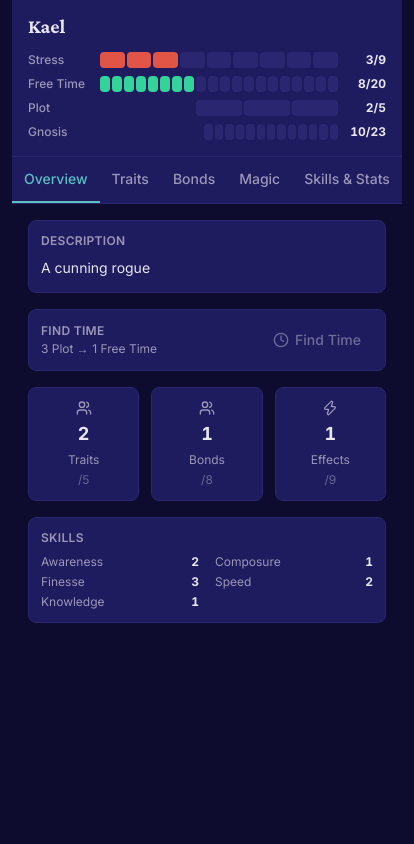
character sheet — tab switching › switching to Bonds tab reveals bonds content in tab panel
Expected: the element named "Stress: 3 of 9" is shown, [28,52,386,68]
Click the tab "Bonds" at [194, 180], box [161,157,227,203]
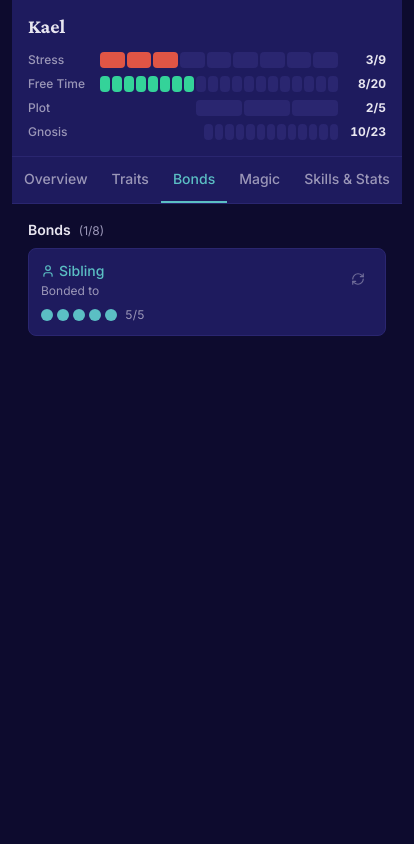
Expected: the text "Sibling" is shown, [59,261,104,281]
